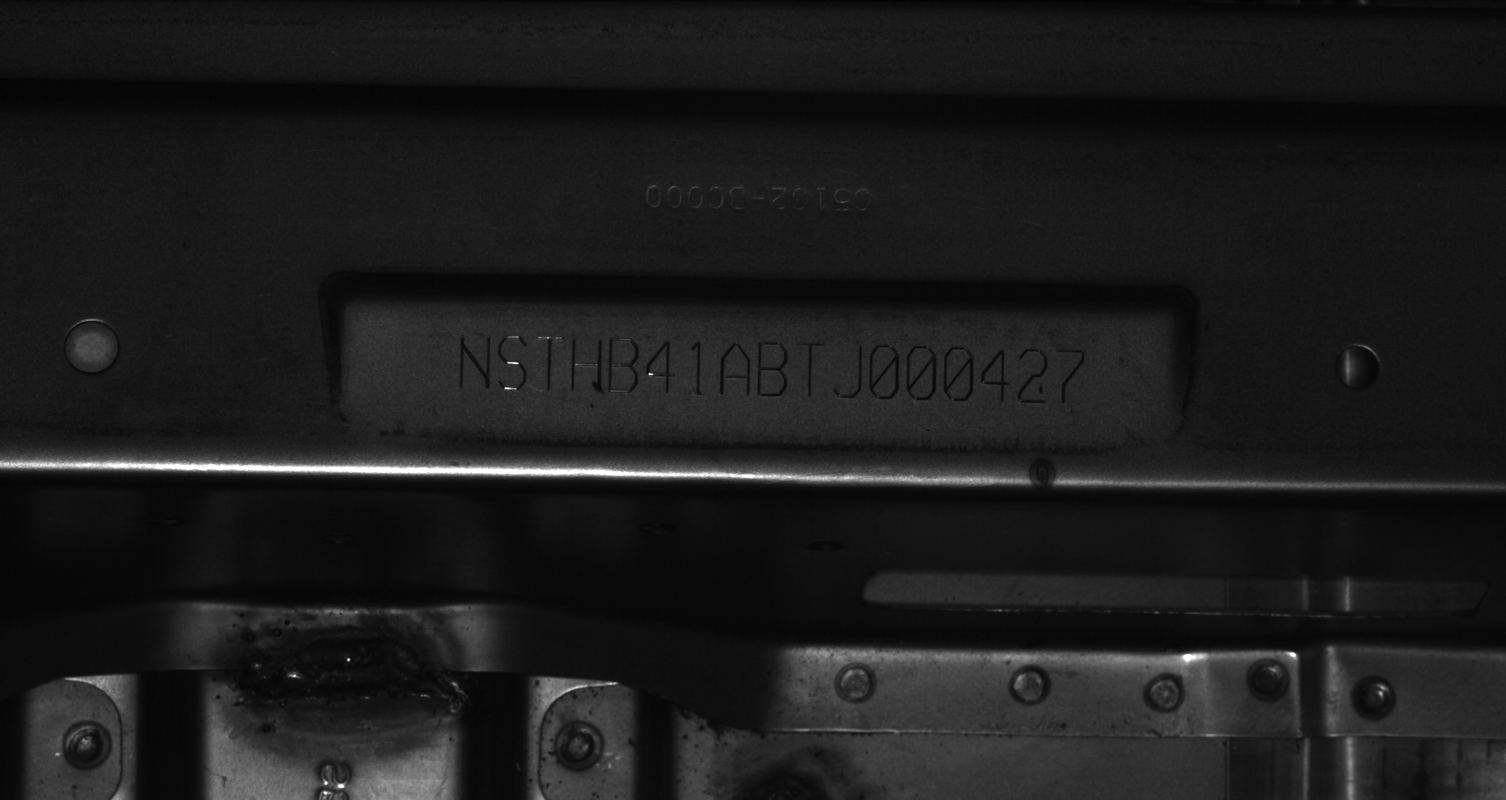bl7m_vin_plate: (334, 296, 1168, 452)
